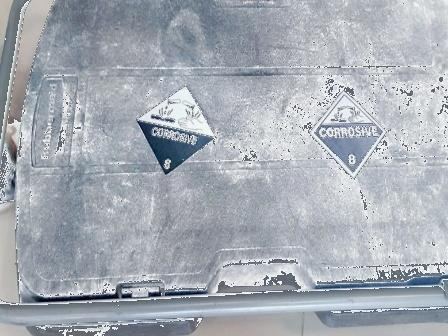corrosive: (138, 84, 216, 177), (308, 89, 387, 180)
